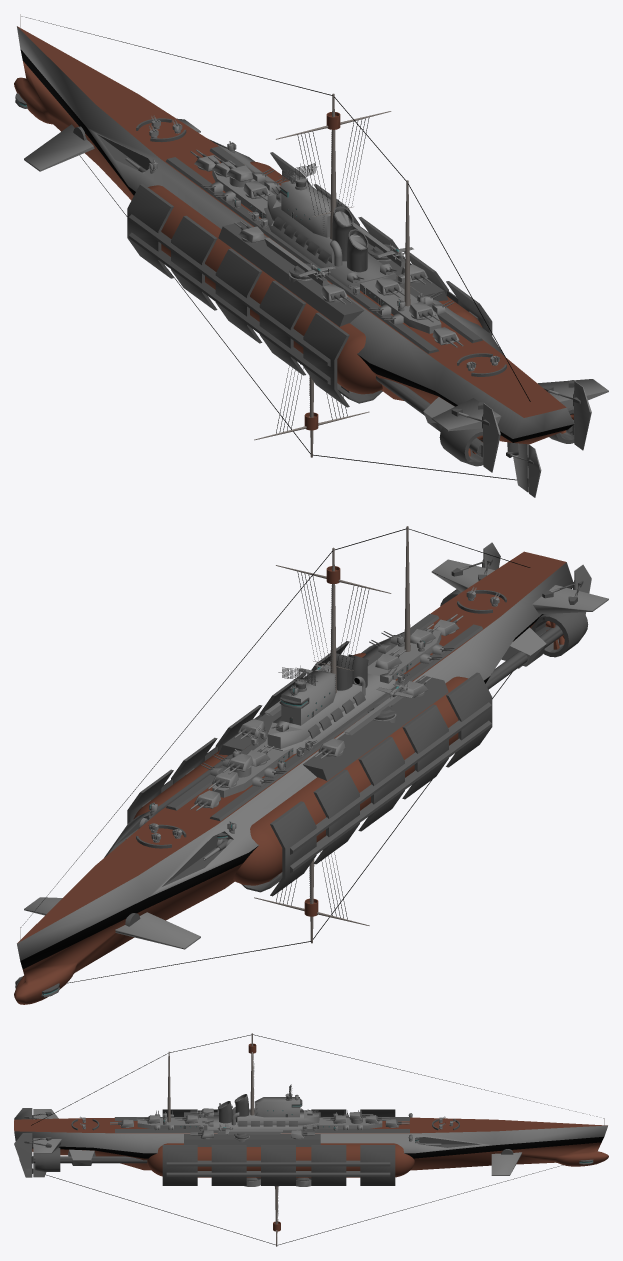
Rendered from super_airship.glb.
3 renders of one model, top to bottom at view 1: azimuth 30°, elevation 25°; view 2: azimuth 150°, elevation 25°; view 3: azimuth 270°, elevation 25°, orthographic. The views are drawn at different scales.
Visible parts, largest first — view 1: superdirigible; view 2: superdirigible; view 3: superdirigible.
Boxes of the visible parts, left/top/right/bottom form: superdirigible: left=14, top=14, right=608, bottom=497; superdirigible: left=14, top=526, right=608, bottom=1004; superdirigible: left=14, top=1033, right=608, bottom=1246.
Bounding box in the file's own units: 0.1792 × 0.3949 × 1.
